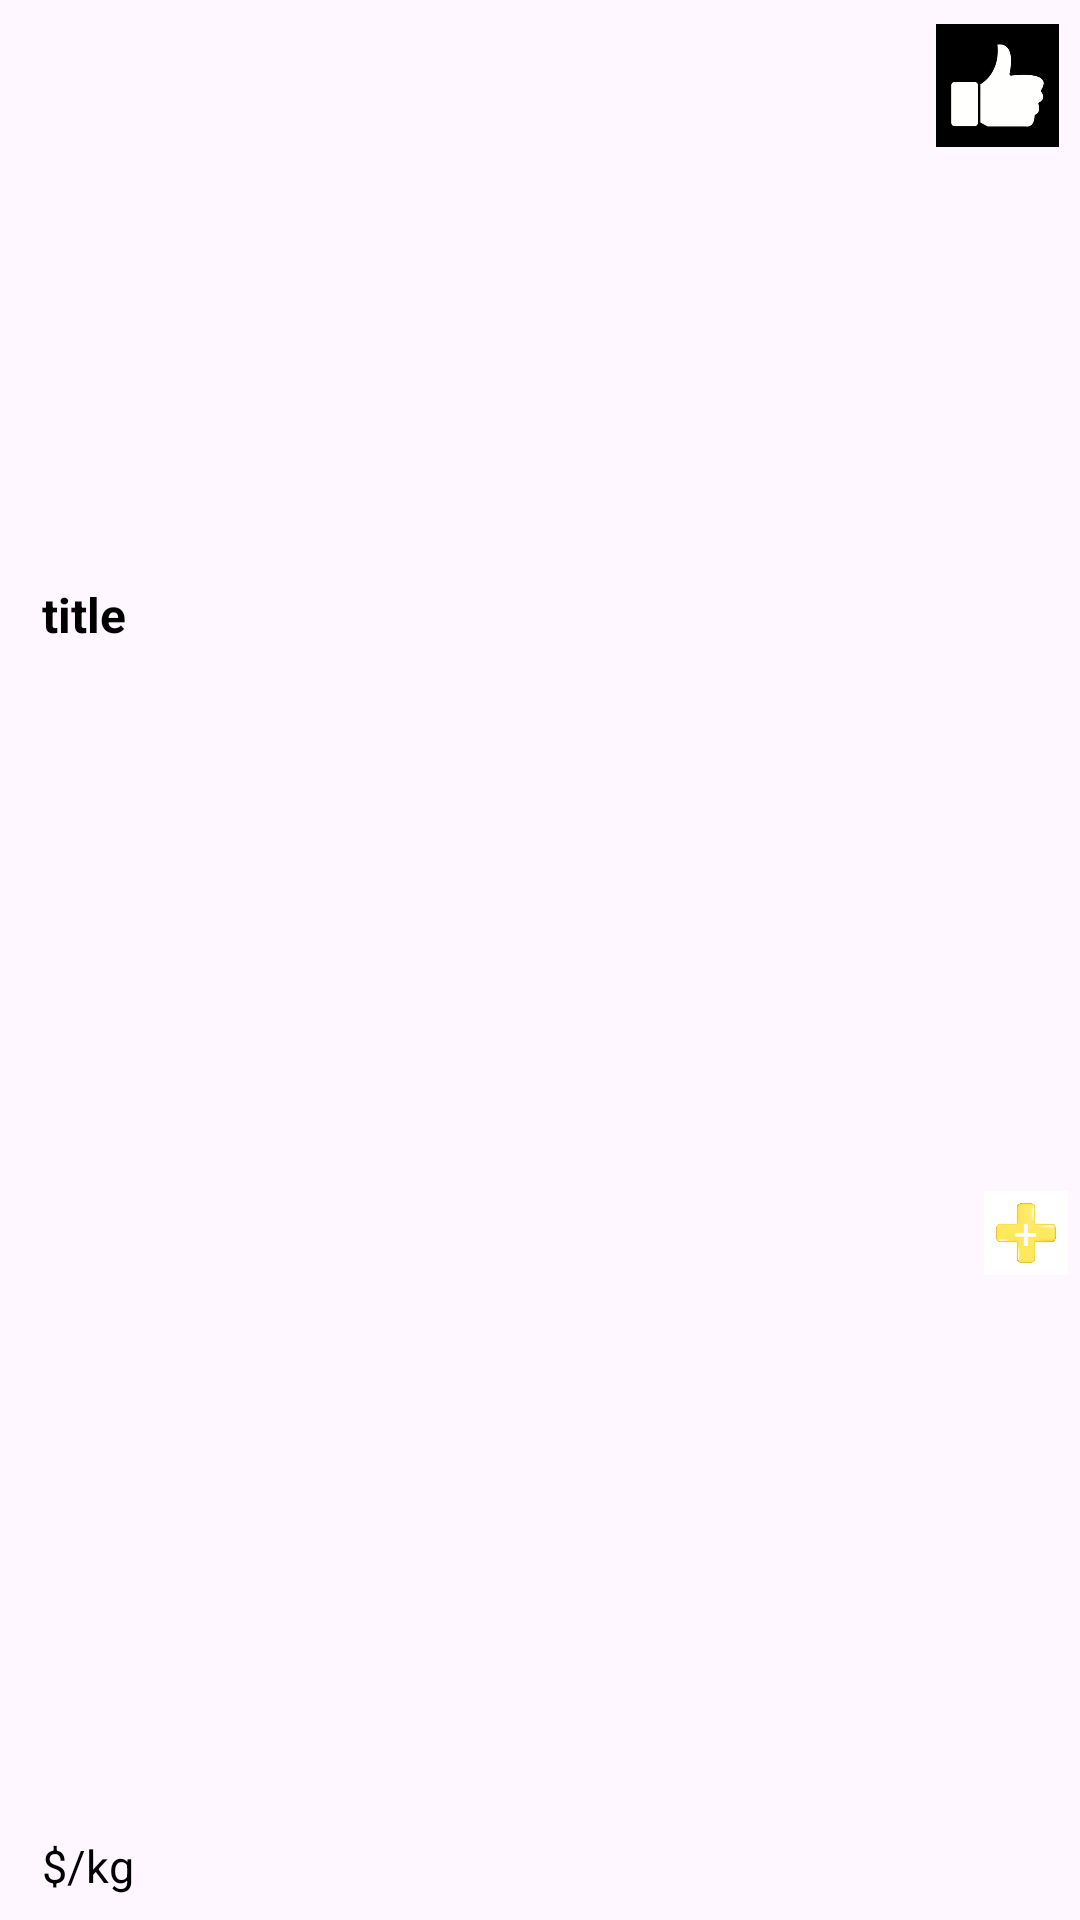

Named icons in this screenshot (1080px x 1920px) and their centers, (x,y):
like: (997,85)
